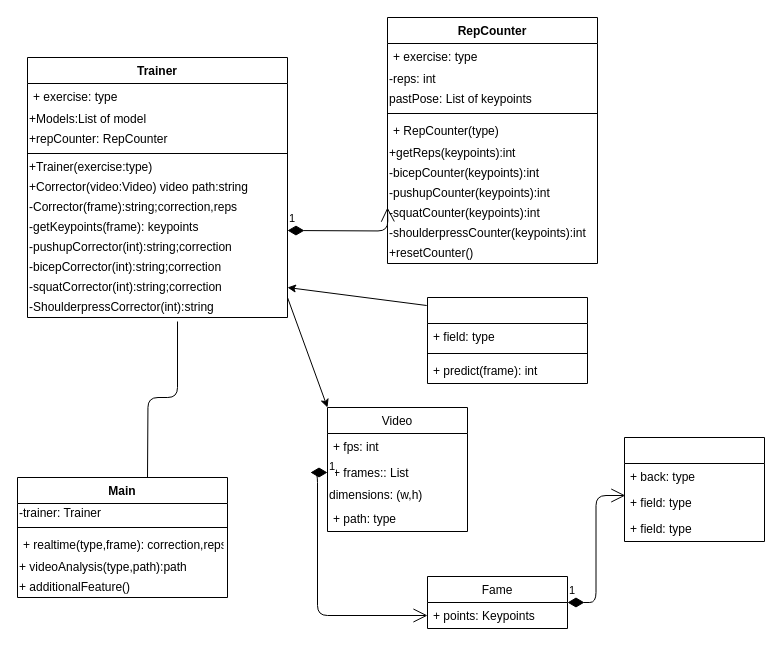
This 782x650 diagram has some shape labels left out. The box of each missing label's shape, as (x1, y1, x2, y2) in pixels:
Keypoints: (624, 436, 764, 542)
Model: (426, 296, 588, 384)
